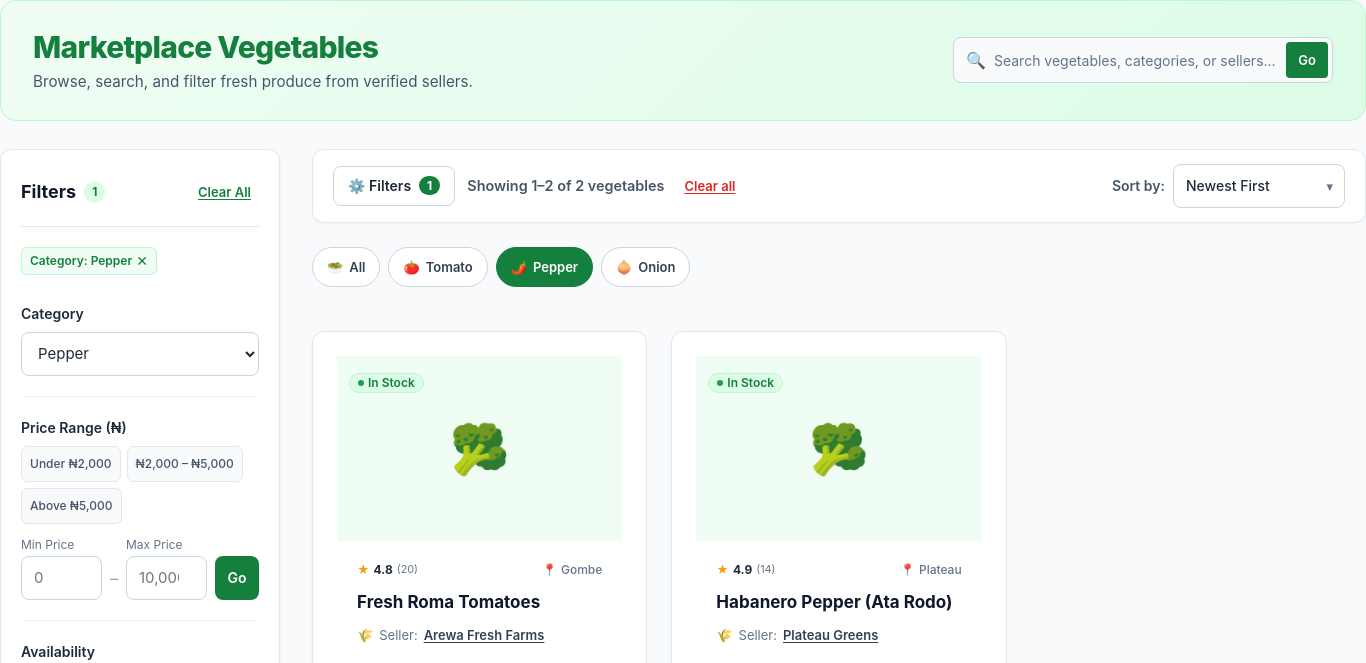
Category Browsing (FE-049, MKT-08) › 2. Filter Panel Category Browsing (MKT-08, SRCH-02) › clearing category filter via active chip removes category filter and restores all categories
What coordinates should you click on to do the following:
click the button named "Remove category filter: Pepper"
I would click on:
 (142, 261)
Its box is [136,254,148,268].
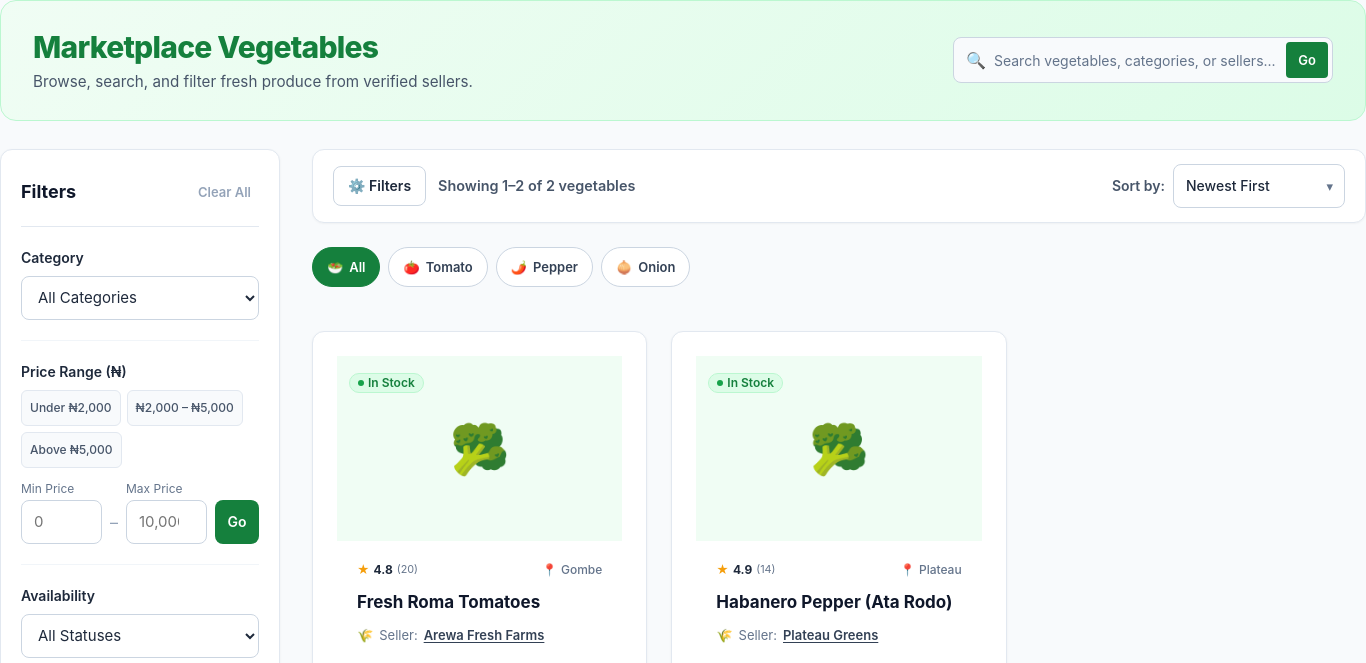
expect the dropdown labelled "Category" shows "All Categories": met, box [21,276,259,320]
